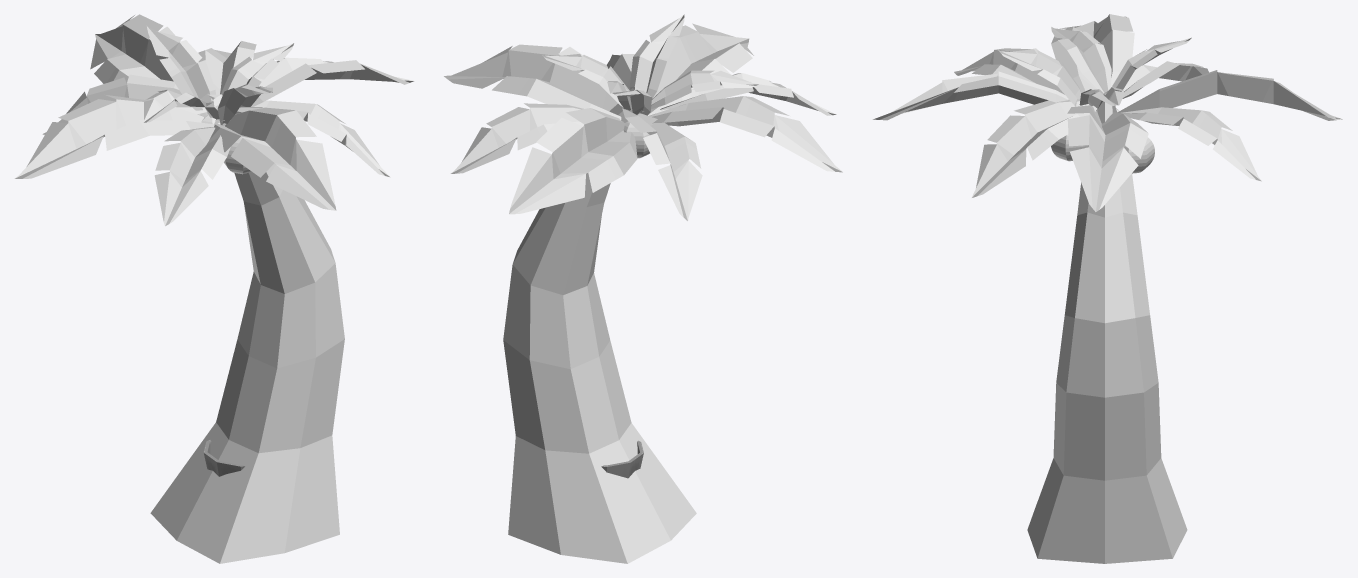
The model's file is BALDE.fbx.
3 views of the same model, side by side, from view 1: azimuth 30°, elevation 25°; view 2: azimuth 150°, elevation 25°; view 3: azimuth 270°, elevation 25° (orthographic). The views are drawn at different scales.
Parts seen in each view (by area): view 1: Cube, Plane.003, Plane.004, Plane.007, Plane, Plane.002, Plane.011, Plane.005, Plane.001, Plane.009, Plane.006, Plane.010 (+2 smaller); view 2: Cube, Plane, Plane.002, Plane.004, Plane.006, Plane.003, Plane.001, Plane.010, Plane.007, Plane.008, Plane.009, Plane.011 (+2 smaller); view 3: Cube, Plane.002, Plane.005, Plane, Plane.003, Plane.006, Plane.004, Plane.008, Plane.010, Plane.007, Plane.001, Plane.011 (+1 smaller).
Boxes of the visible parts, x1,y1,x2,y2 form: Cube: (150, 94, 344, 563); Plane.003: (209, 107, 336, 210); Plane.004: (14, 95, 214, 178); Plane.007: (154, 127, 230, 226); Plane: (90, 14, 199, 114); Plane.002: (214, 57, 413, 124); Plane.011: (147, 26, 215, 116); Plane.005: (237, 100, 390, 177); Plane.001: (42, 74, 206, 134); Plane.009: (221, 43, 293, 126); Plane.006: (198, 41, 256, 94); Plane.010: (217, 84, 272, 125); Cube: (503, 103, 696, 563); Plane: (509, 108, 637, 214); Plane.002: (444, 44, 621, 119); Plane.004: (649, 96, 842, 172); Plane.006: (450, 103, 583, 173); Plane.003: (648, 23, 753, 115); Plane.001: (622, 108, 702, 220); Plane.010: (629, 14, 684, 98); Plane.007: (660, 73, 836, 115); Plane.008: (641, 70, 758, 112); Plane.009: (541, 54, 629, 107); Plane.011: (607, 81, 651, 115); Cube: (1027, 89, 1187, 563); Plane.002: (1067, 105, 1148, 211); Plane.005: (971, 99, 1097, 197); Plane: (1117, 70, 1342, 120); Plane.003: (873, 71, 1068, 120); Plane.006: (1120, 107, 1261, 181); Plane.004: (1051, 14, 1134, 92); Plane.008: (1051, 27, 1111, 92); Plane.010: (998, 49, 1081, 106); Plane.007: (954, 48, 1064, 94); Plane.001: (1122, 61, 1208, 98); Plane.011: (1112, 37, 1191, 91).
Size of the model in its own units: 1088 by 1246 by 1135.
2 materials, 1 textured.
